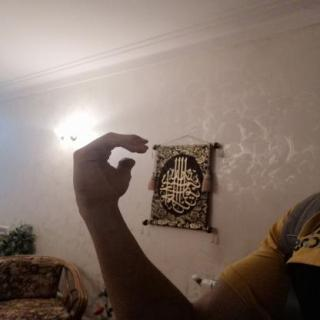JEEM: (64, 124, 158, 214)
